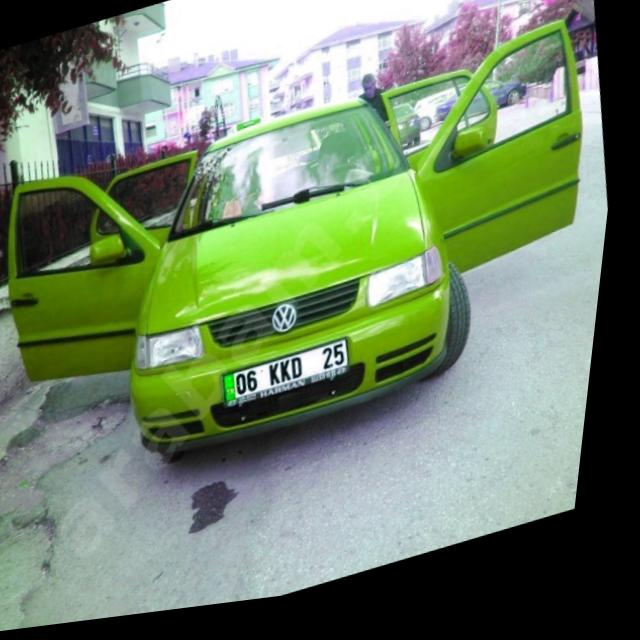license_plate: (229, 348, 361, 409)
